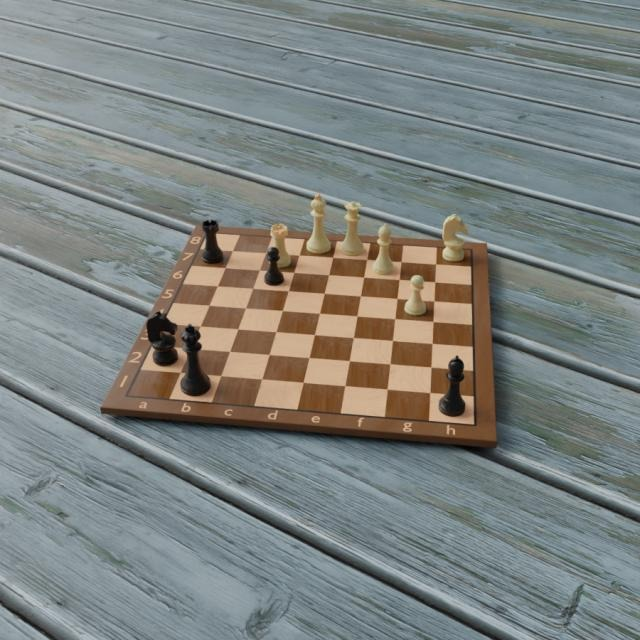black-bishop: (437, 354, 467, 417)
black-king: (179, 322, 213, 397)
black-knight: (146, 310, 178, 368)
black-pawn: (262, 246, 285, 286)
black-rook: (200, 219, 223, 265)
white-bishop: (372, 223, 396, 277)
white-king: (304, 192, 331, 255)
white-knight: (441, 211, 469, 263)
white-pawn: (402, 274, 427, 318)
white-queen: (339, 199, 365, 257)
white-rook: (268, 221, 291, 270)
